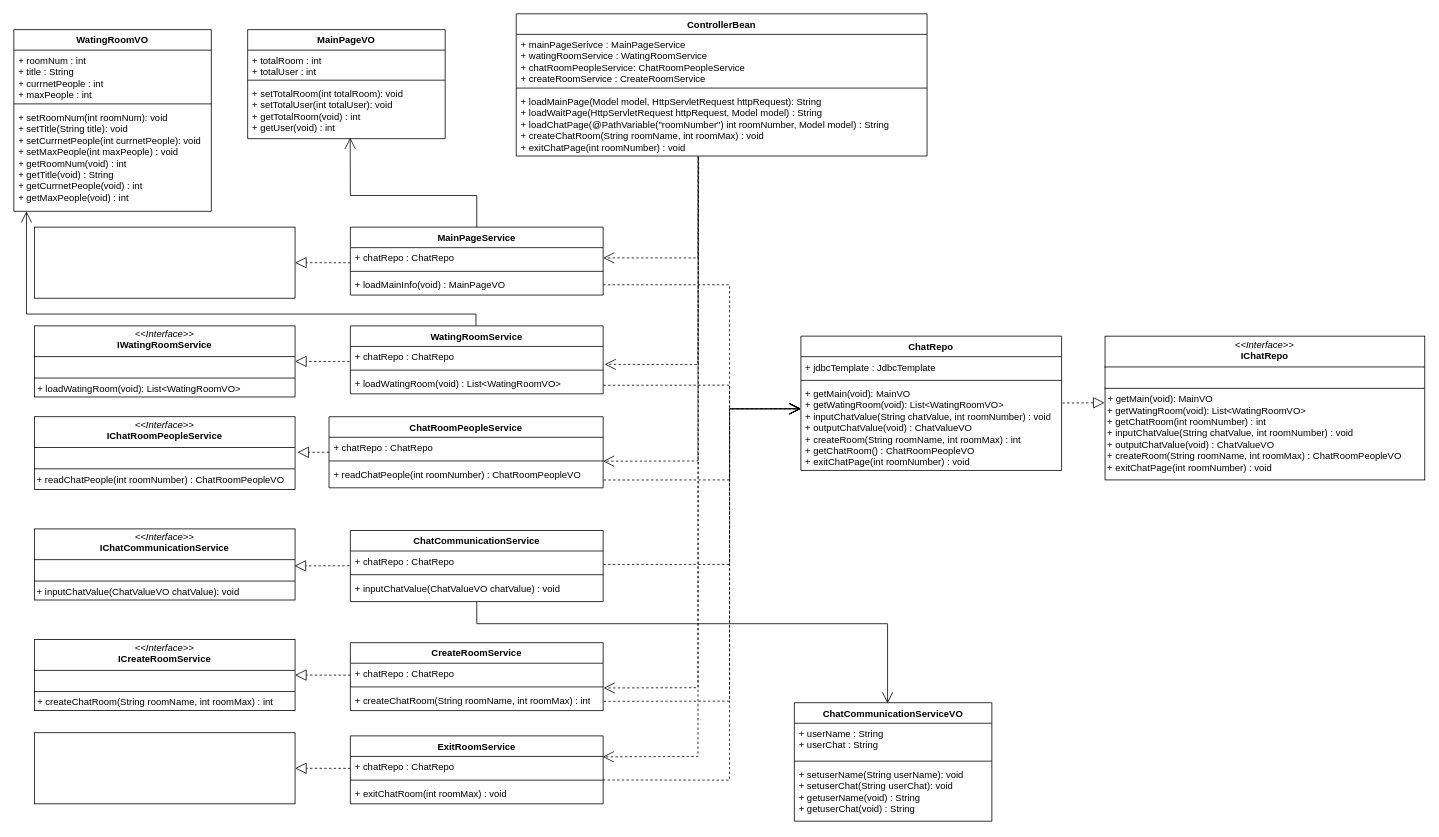
Some shapes in this 1439 by 837 pixel diagram are drawn without their labels. The centre of each missing label's shape, as x and y in pixels:
"<<Interface>> IExit RoomService + exitChatRoom(int roomMax) : void" goes at (x=164, y=768).
"<<Interface>> IMainPageSerivce + loadMainInfo(void) : MainPageVO" goes at (x=164, y=262).
